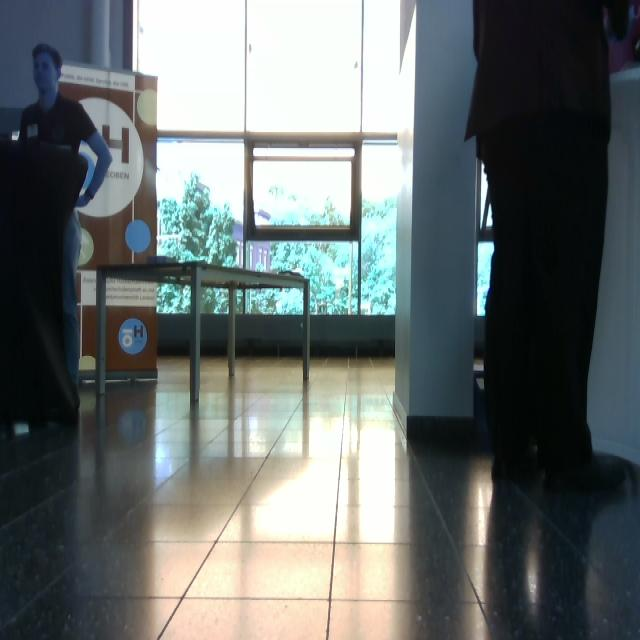light bulb: (124, 219, 150, 253), (136, 88, 156, 125), (77, 227, 94, 265), (256, 208, 270, 220)
person: (463, 0, 631, 491), (17, 42, 113, 390)
pillar: (393, 0, 478, 433)
table: (92, 258, 313, 406)
tiled floor: (1, 352, 638, 637)
window: (129, 0, 407, 323)
